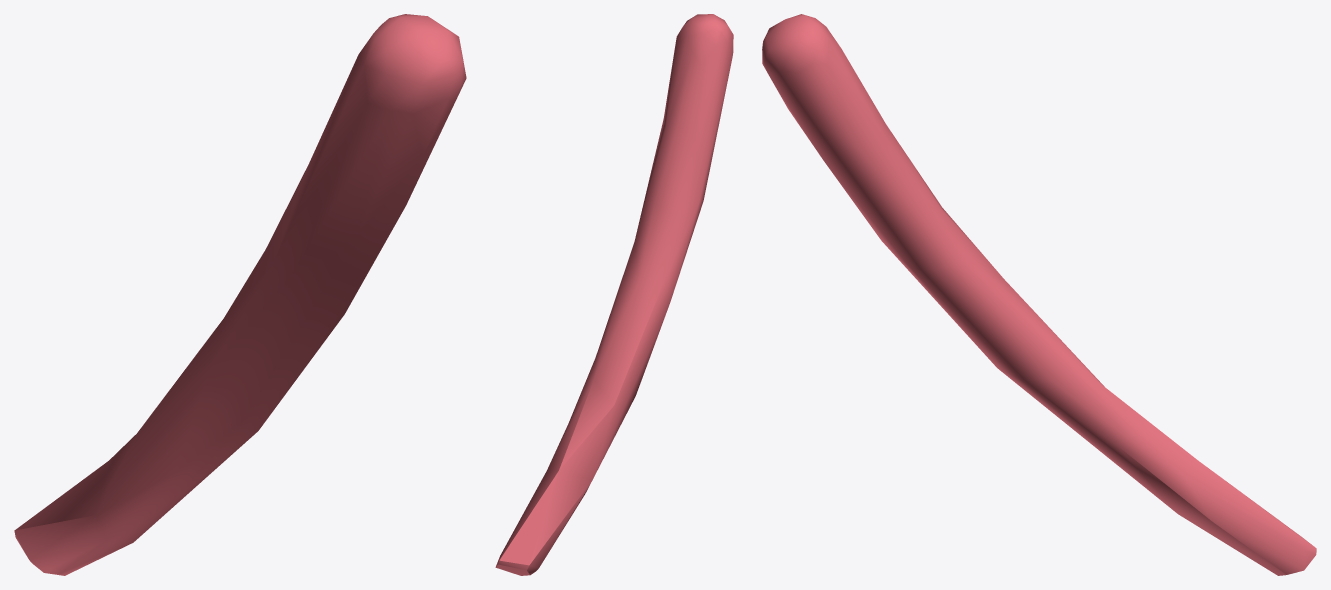
Rendered from fma9428_fj6114.glb.
3 renders of one model, left to right at view 1: azimuth 30°, elevation 25°; view 2: azimuth 150°, elevation 25°; view 3: azimuth 270°, elevation 25°, orthographic. The views are drawn at different scales.
Parts seen in each view (by area): view 1: FMA9428_FJ6114; view 2: FMA9428_FJ6114; view 3: FMA9428_FJ6114.
Part boxes in pixels (x1,y1,x2,y2): FMA9428_FJ6114: [14, 14, 466, 575]; FMA9428_FJ6114: [495, 14, 733, 575]; FMA9428_FJ6114: [762, 14, 1316, 575].
Bounding box in the file's own units: 0.0029 × 0.0195 × 0.0176.
